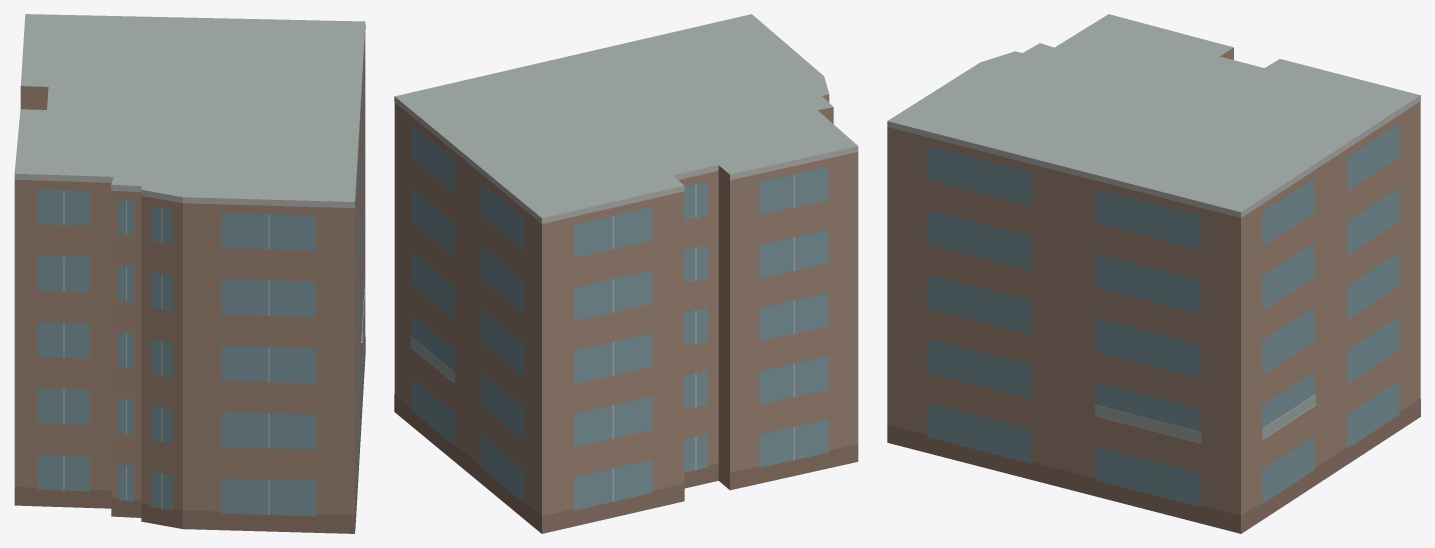
The model's file is survey-upis-32666787.glb.
The picture shows the model from 3 angles, left to right: view 1: azimuth 30°, elevation 25°; view 2: azimuth 150°, elevation 25°; view 3: azimuth 270°, elevation 25°; orthographic projection. The views are drawn at different scales.
Visible parts, largest first — view 1: survey-upis-32666787.tmp; view 2: survey-upis-32666787.tmp; view 3: survey-upis-32666787.tmp.
Boxes of the visible parts, x1,y1,x2,y2 form: survey-upis-32666787.tmp: (14,14,365,533); survey-upis-32666787.tmp: (394,14,858,533); survey-upis-32666787.tmp: (887,14,1420,533).
Size of the model in its own units: 17.73 by 13.4 by 20.15.
